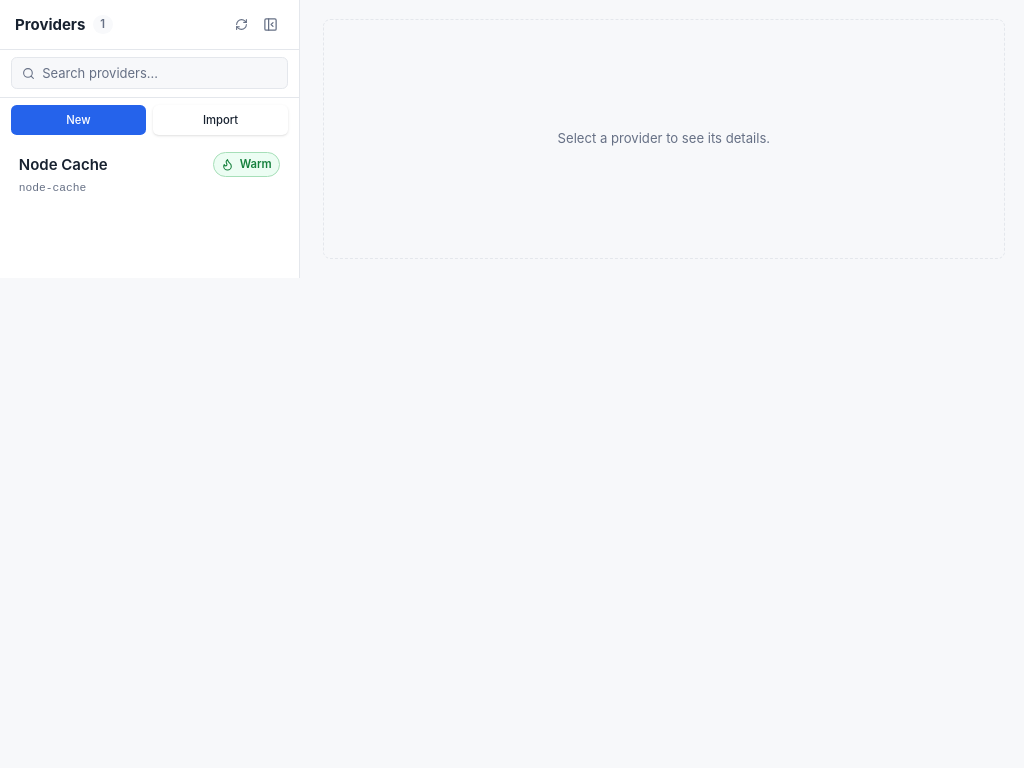
it: ProvidersPage › surfaces the referencing project names when delete is refused with 409
Click the button "Node Cache Warm node-cache" at (63, 164), box [8,143,292,205]
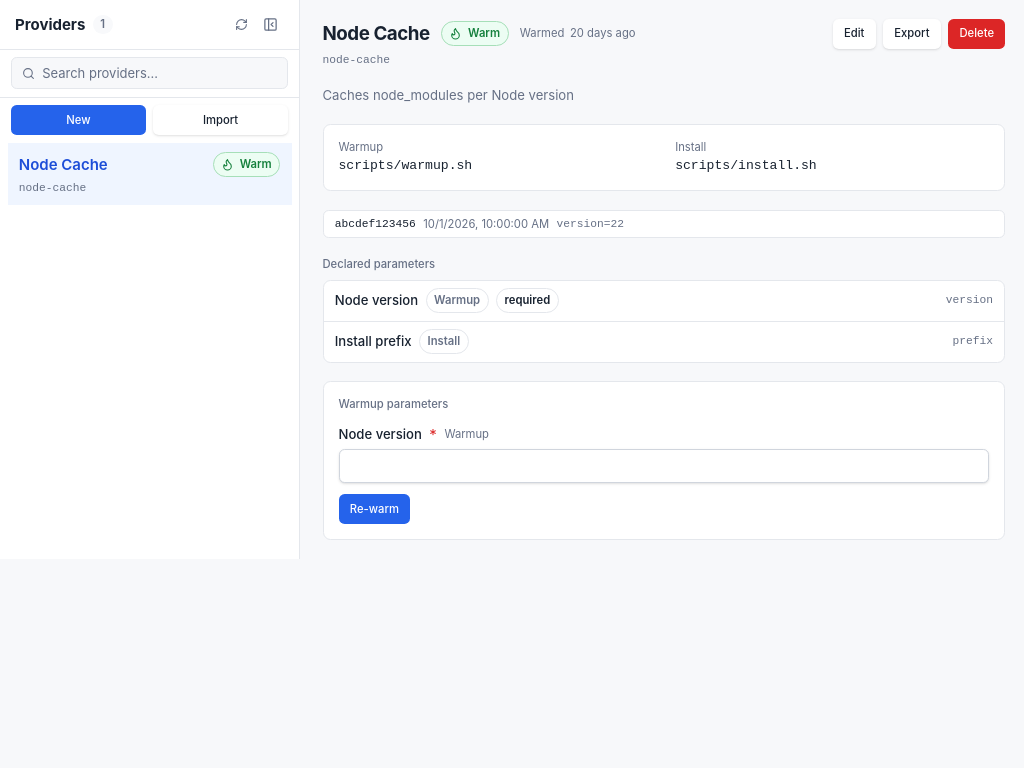
Click the button "Delete" at (977, 34), box [948,19,1005,49]
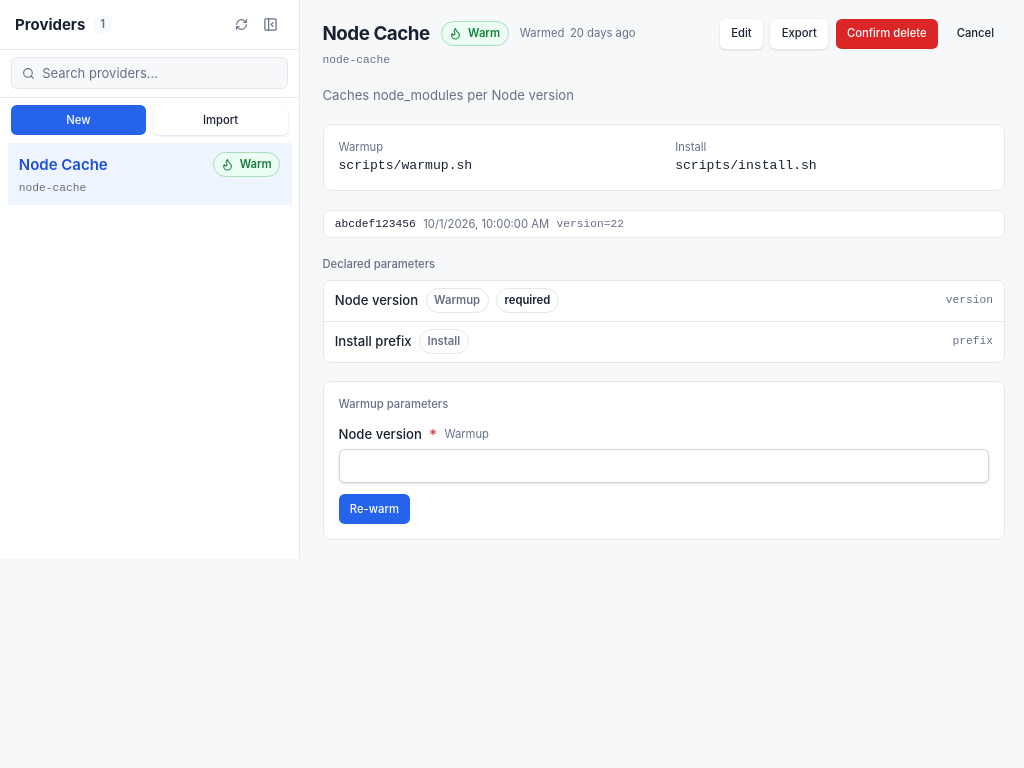
Click the button "Confirm delete" at (887, 34), box [836,19,938,49]
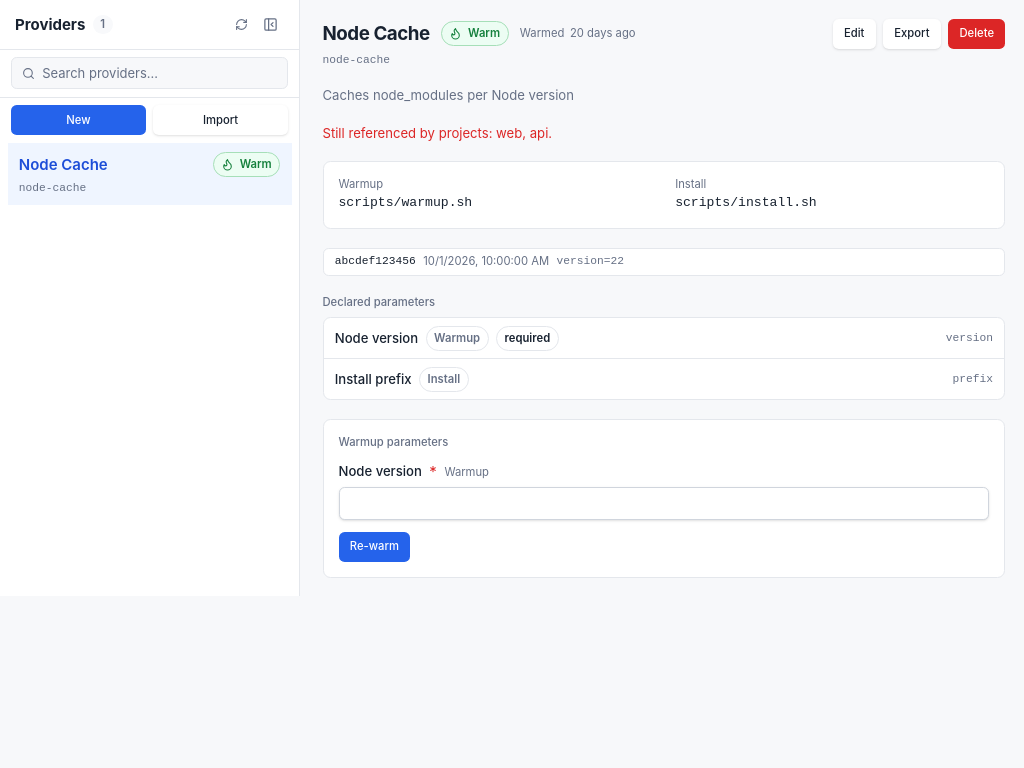
Check: the message shows "web, api", box [322,125,552,141]
